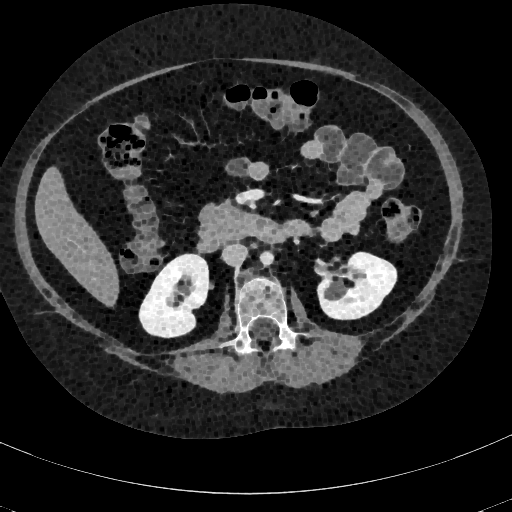Lesion: (323, 277, 349, 304)
